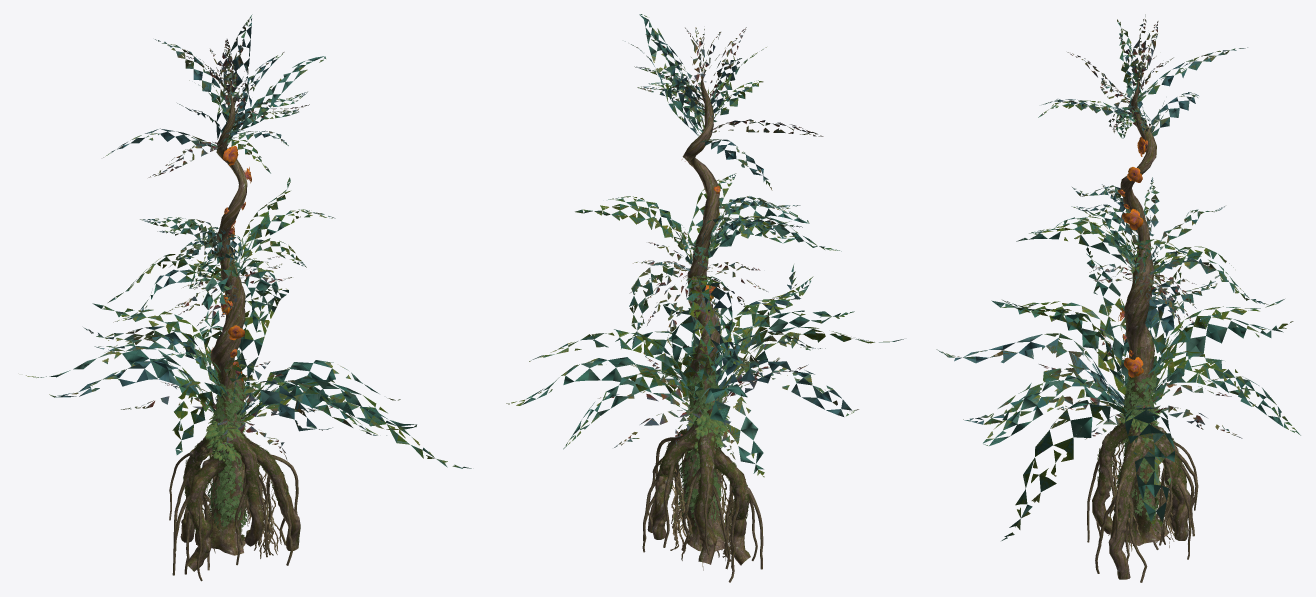
File: Tree - Alien Tree 01 1-Cs8wBUsN.glb
3 renders of one model, left to right at view 1: azimuth 30°, elevation 25°; view 2: azimuth 150°, elevation 25°; view 3: azimuth 270°, elevation 25°, orthographic. The views are drawn at different scales.
Visible parts, largest first — view 1: Tree_01(Clone), Tree_01_Plants(Clone); view 2: Tree_01(Clone), Tree_01_Plants(Clone); view 3: Tree_01(Clone), Tree_01_Plants(Clone).
Boxes of the visible parts, <box> form: Tree_01(Clone): <box>26,14,471,581</box>; Tree_01_Plants(Clone): <box>183,358,289,541</box>; Tree_01(Clone): <box>506,14,903,582</box>; Tree_01_Plants(Clone): <box>659,352,749,536</box>; Tree_01(Clone): <box>936,14,1300,582</box>; Tree_01_Plants(Clone): <box>1097,347,1186,537</box>.
Size of the model in its own units: 17.34 by 24.45 by 14.96.
Materials: 2 (2 with a texture image).
